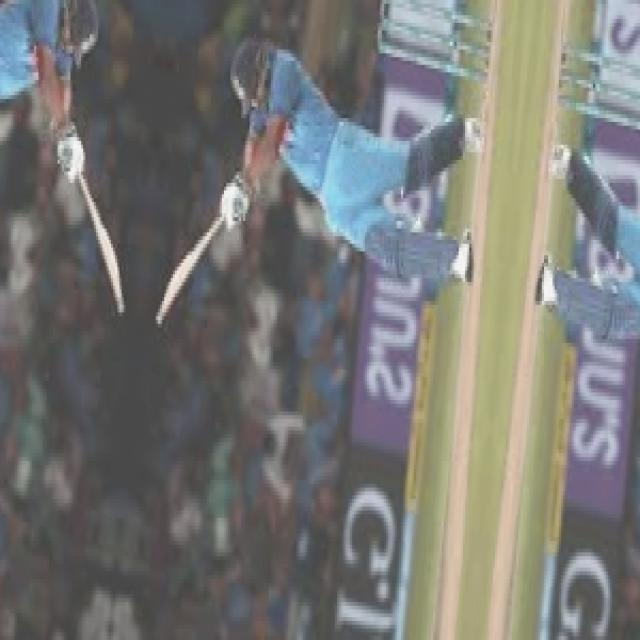toe: (152, 304, 170, 329)
